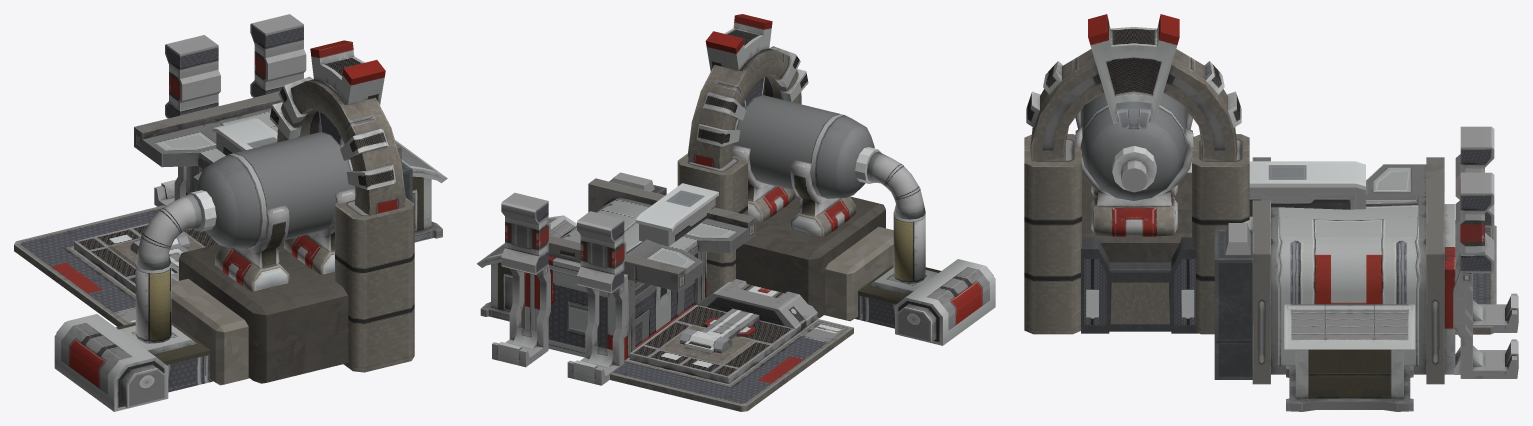
The model's file is Building - 01-BCc4gjFO.glb.
The picture shows the model from 3 angles, left to right: view 1: azimuth 30°, elevation 25°; view 2: azimuth 150°, elevation 25°; view 3: azimuth 270°, elevation 25°; orthographic projection. The views are drawn at different scales.
Parts seen in each view (by area): view 1: Simlpe_form_02, Addon_01, Extras_03, Column_01 (1), Addon_06, Pad_05, Main_form_04, Simlpe_form_01, Pylon_05, Pylon_05 (1), Extras_03_pad2, Tube_04_corner (+5 smaller); view 2: Pad_05, Main_form_04, Addon_01, Extras_03, Addon_06, Simlpe_form_02, Pylon_05, Pylon_05 (1), Simlpe_form_01, Column_01, Fence_01, Extras_03_pad2 (+6 smaller); view 3: Main_form_04, Addon_01, Addon_04, Column_01 (1), Fence_07, Pylon_05 (1), Extras_03, Column_01, Pillar_04, Fence_01, Extras_03_pad, Pylon_05 (+3 smaller).
Boxes of the visible parts, box(x1,y1,x2,y2) form: Simlpe_form_02: box(179, 242, 348, 383); Addon_01: box(269, 40, 405, 214); Extras_03: box(195, 131, 355, 248); Column_01 (1): box(335, 198, 414, 372); Addon_06: box(54, 314, 213, 411); Pad_05: box(14, 205, 217, 326); Main_form_04: box(134, 91, 401, 194); Simlpe_form_01: box(171, 278, 249, 385); Pylon_05: box(154, 35, 220, 206); Pylon_05 (1): box(250, 14, 306, 97); Extras_03_pad2: box(215, 205, 289, 291); Tube_04_corner: box(135, 194, 201, 270); Pad_05: box(580, 279, 853, 411); Main_form_04: box(521, 178, 755, 360); Addon_01: box(688, 14, 808, 168); Extras_03: box(732, 95, 874, 198); Addon_06: box(855, 259, 995, 345); Simlpe_form_02: box(736, 193, 885, 318); Pylon_05: box(567, 211, 627, 385); Pylon_05 (1): box(492, 192, 550, 367); Simlpe_form_01: box(824, 226, 893, 321); Column_01: box(677, 153, 747, 296); Fence_01: box(635, 183, 718, 246); Extras_03_pad2: box(790, 159, 856, 237); Main_form_04: box(1243, 157, 1455, 384); Addon_01: box(1026, 14, 1241, 161); Addon_04: box(1284, 304, 1415, 411); Column_01 (1): box(1024, 134, 1081, 334); Fence_07: box(1081, 237, 1198, 333); Pylon_05 (1): box(1453, 172, 1518, 378); Extras_03: box(1080, 92, 1187, 200); Column_01: box(1192, 134, 1249, 334); Pillar_04: box(1214, 223, 1252, 379); Fence_01: box(1249, 161, 1365, 216); Extras_03_pad: box(1075, 126, 1193, 236); Pylon_05: box(1455, 126, 1518, 332).
Size of the model in its own units: 5.84 by 3.59 by 5.29.
Materials: 11 (11 with a texture image).
